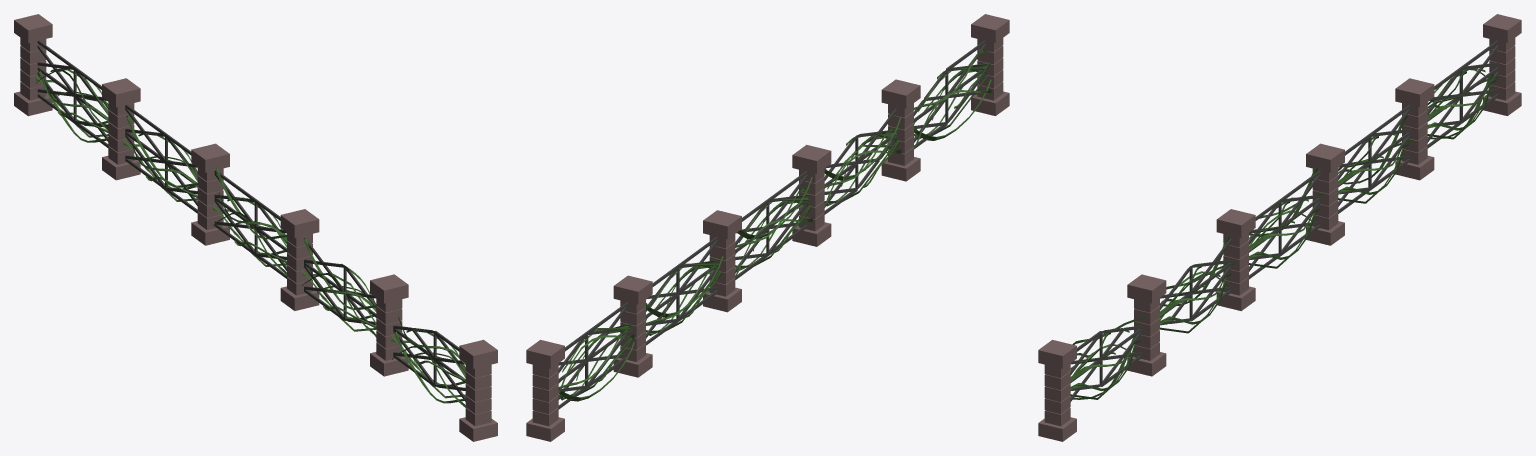
The model's file is 07 Stone_Fence.FBX.
3 views of the same model, side by side, from view 1: azimuth 30°, elevation 25°; view 2: azimuth 150°, elevation 25°; view 3: azimuth 330°, elevation 25° (orthographic).
Visible parts, largest first — view 1: Fence_002; view 2: Fence_002; view 3: Fence_002.
Boxes of the visible parts, x1,y1,x2,y2 form: Fence_002: [14, 14, 497, 441]; Fence_002: [526, 14, 1009, 441]; Fence_002: [1038, 14, 1521, 441].
Bounding box in the file's own units: 348 × 1000 × 9694.
